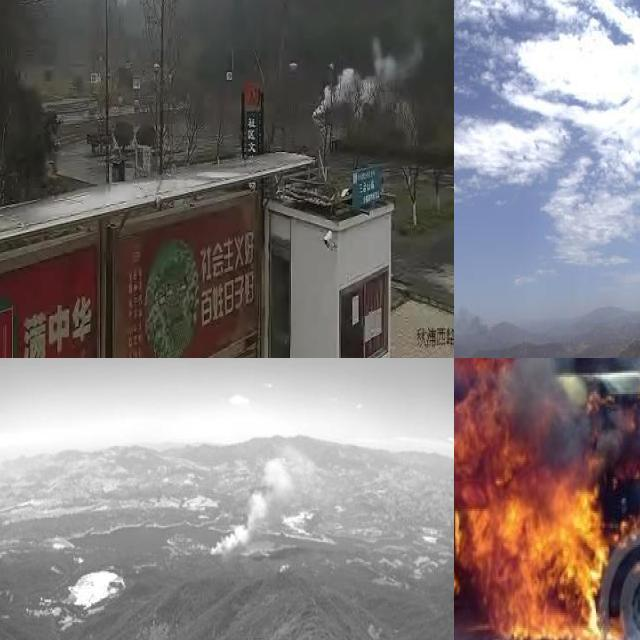fire: (454, 358, 640, 640)
smoke: (200, 443, 332, 558), (309, 37, 423, 120), (454, 293, 530, 358)
